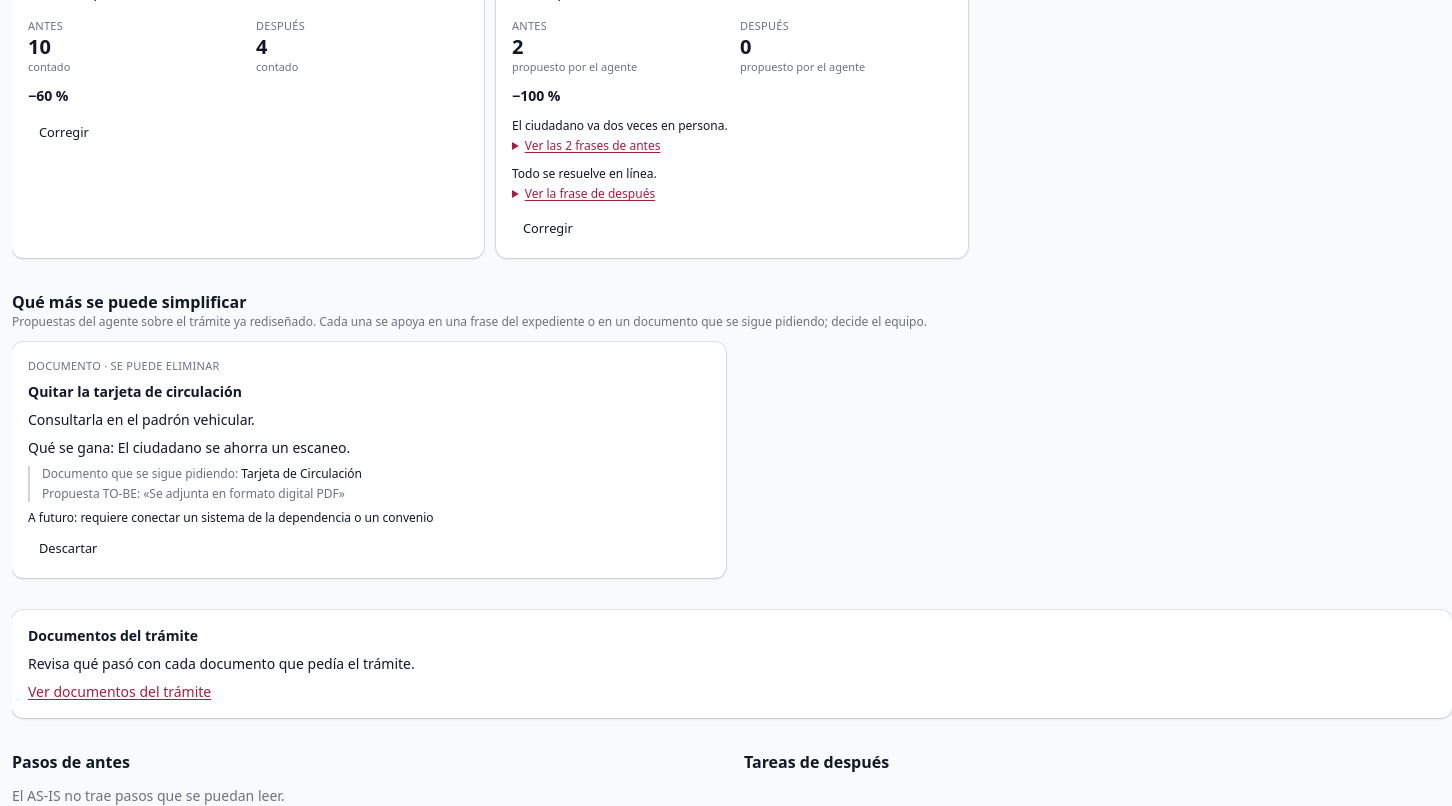
Test case: un punto de mejora trae propuesta, beneficio y evidencia, y se puede descartar
(page scrolled)
Expected: the heading "Qué más se puede simplificar" is shown, left=12, top=291, right=246, bottom=313
Expected: the element "Quitar la tarjeta de circulación" shows "Consultarla en el padrón vehicular.", left=28, top=410, right=255, bottom=429
Click the button "Descartar".
click(68, 548)  # box left=28, top=534, right=108, bottom=562
(page scrolled)
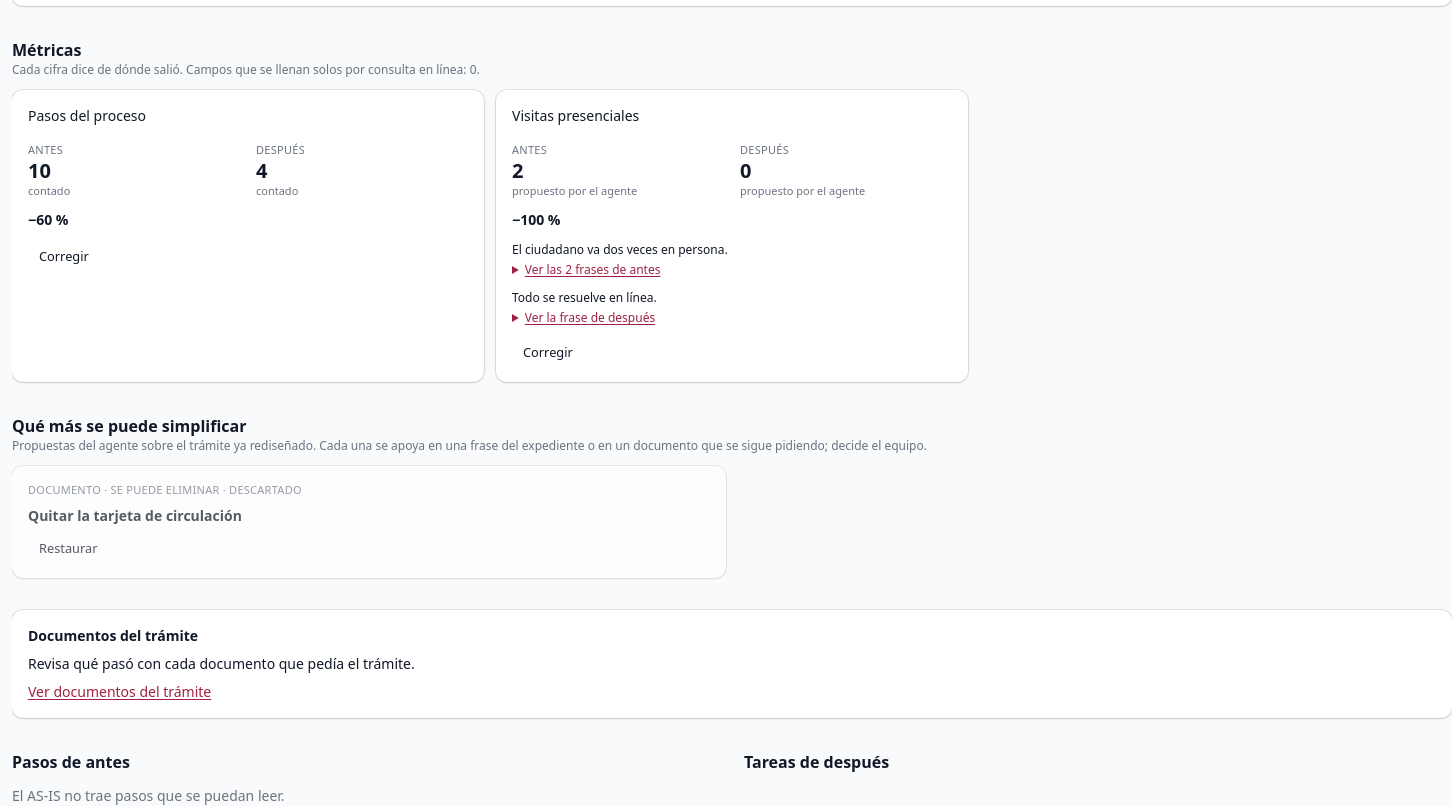
Now the element "Quitar la tarjeta de circulación" shows "Descartado", box left=220, top=482, right=302, bottom=497
Now the button "Restaurar" is shown, box left=28, top=534, right=108, bottom=562
